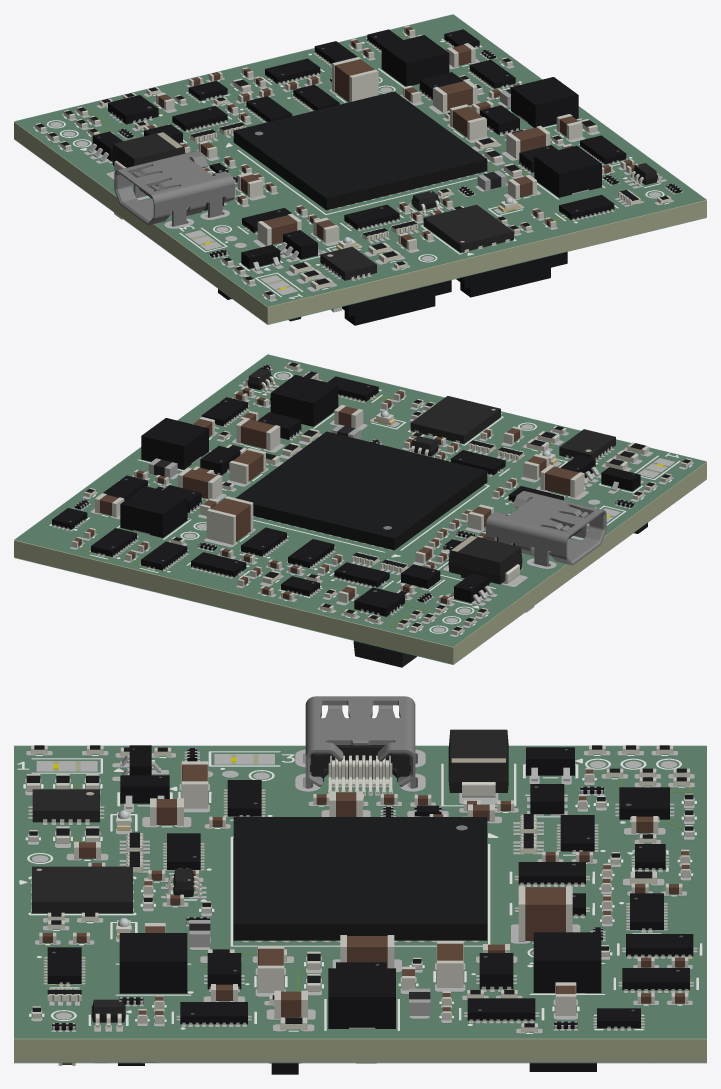
Rendered from fpga35t-r39.glb.
The picture shows the model from 3 angles, top to bottom: view 1: azimuth 30°, elevation 25°; view 2: azimuth 150°, elevation 25°; view 3: azimuth 270°, elevation 25°; orthographic projection. The views are drawn at different scales.
Visible parts, largest first — view 1: Material-batched review assembly; view 2: Material-batched review assembly; view 3: Material-batched review assembly.
Part boxes in pixels (x1=…): Material-batched review assembly: x1=14, y1=14, x2=706, y2=325; Material-batched review assembly: x1=14, y1=354, x2=706, y2=667; Material-batched review assembly: x1=14, y1=696, x2=706, y2=1074.
Size of the model in its own units: 0.0416 by 0.00773 by 0.041.
